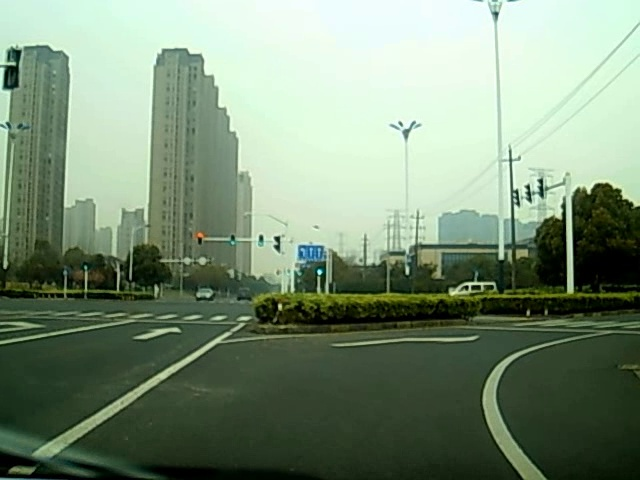Traffic_Light_go: (315, 264, 325, 278), (256, 234, 264, 250), (228, 233, 236, 247)
Traffic_Light_stop: (195, 230, 204, 248)
